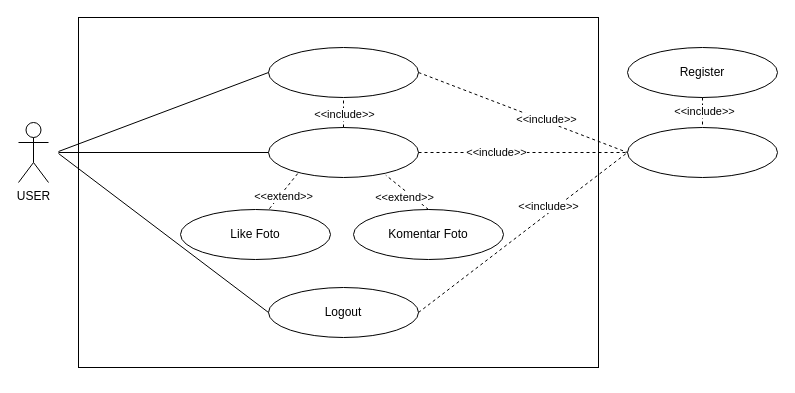
Some shapes in this 795 by 393 pixel diagram are drawn without their labels. The centre of each missing label's shape, as x and y in pixels:
"Kelola Album" belongs at (x=343, y=72).
"Kelola Foto" belongs at (x=343, y=152).
"Login" belongs at (x=702, y=152).
